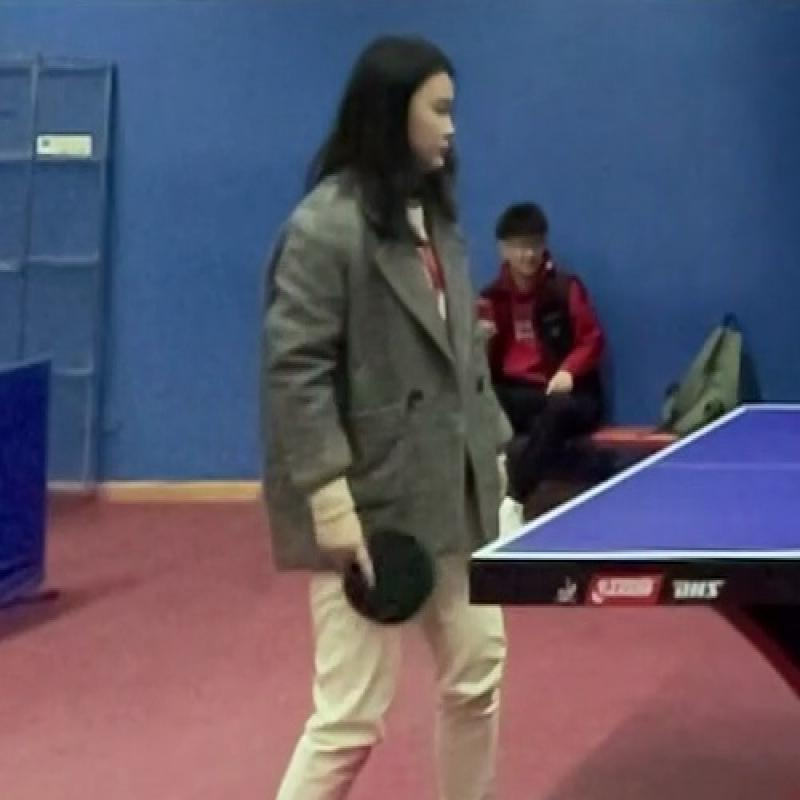bats: (330, 518, 442, 632)
